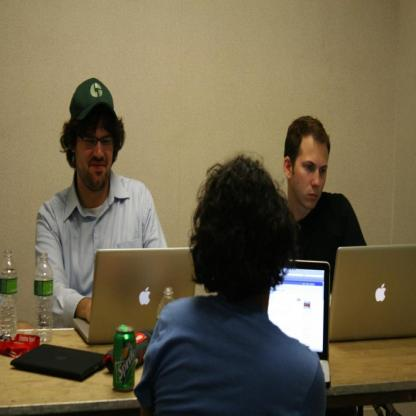board: (71, 249, 197, 347), (334, 246, 414, 361), (266, 257, 333, 387), (35, 251, 52, 343), (113, 323, 136, 391), (0, 248, 17, 335), (157, 286, 175, 318)
